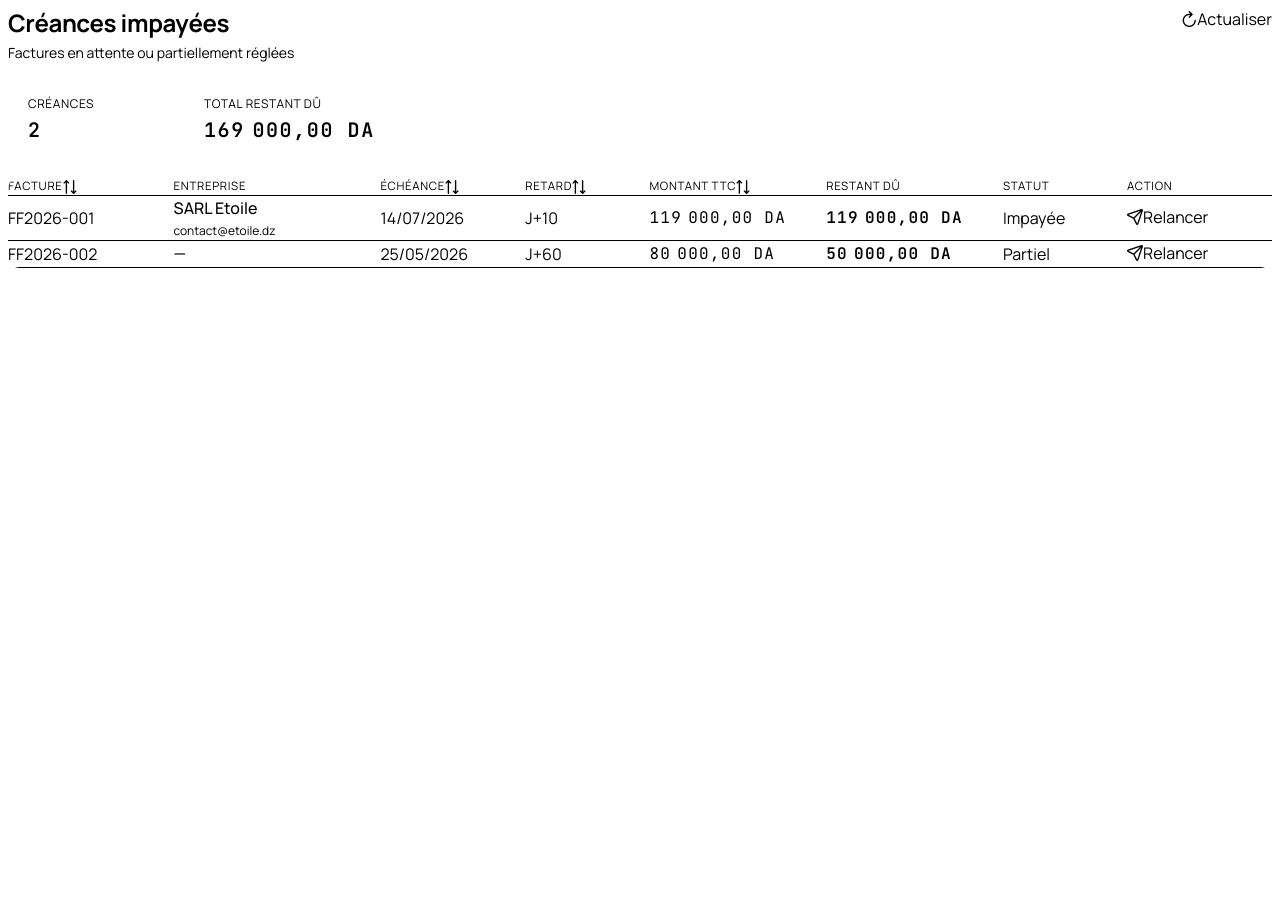
CreancesPage — dialog de relance › affiche 'Non renseigné' quand l entreprise n a pas d email
Click the button "Relancer" in the row of "FF2026-002".
click(1168, 253)  # box [1127,242,1208,264]
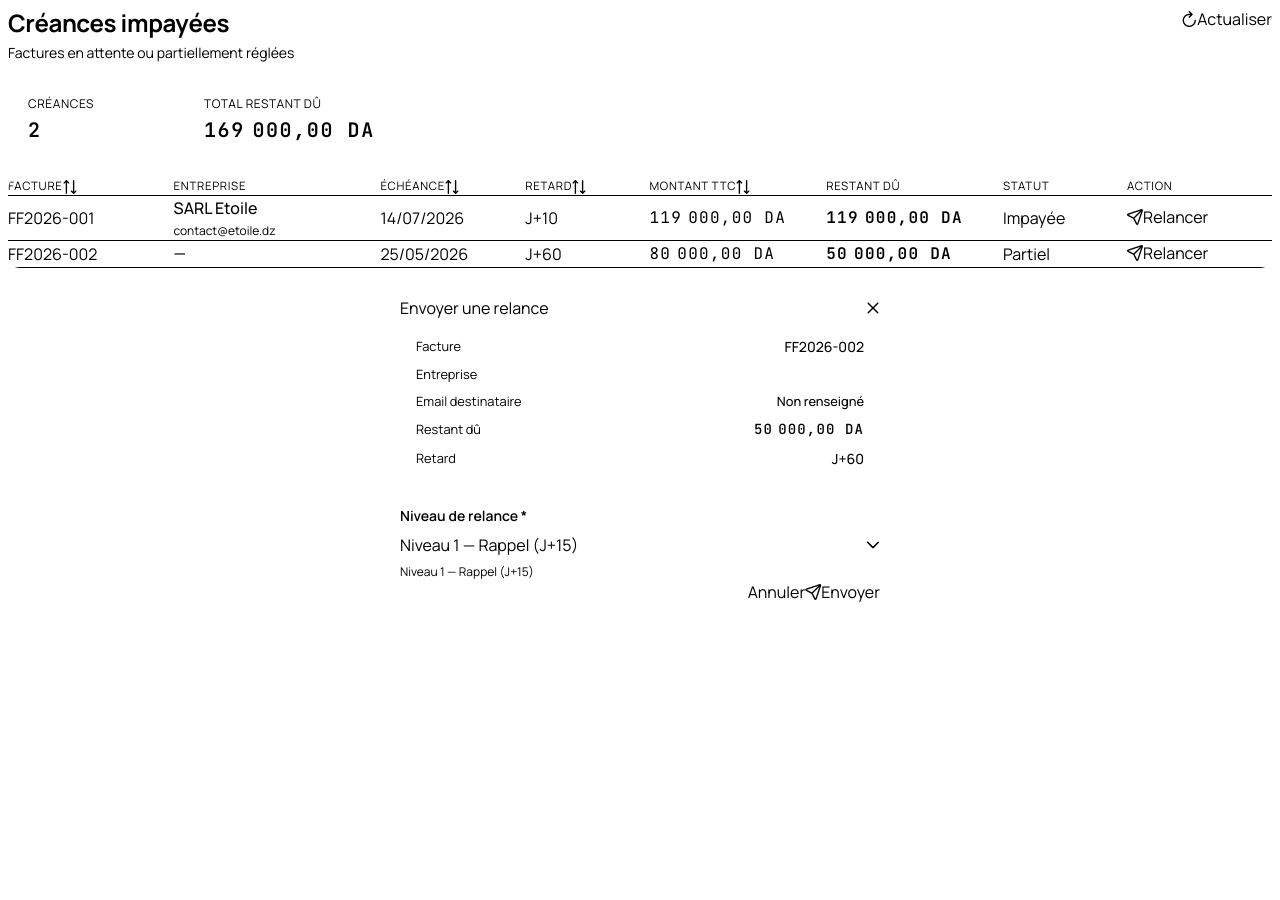
Expected: the text "FF2026-002" is shown, [8,241,174,268]
Expected: the text "Non renseigné" is shown, [777,393,864,412]
